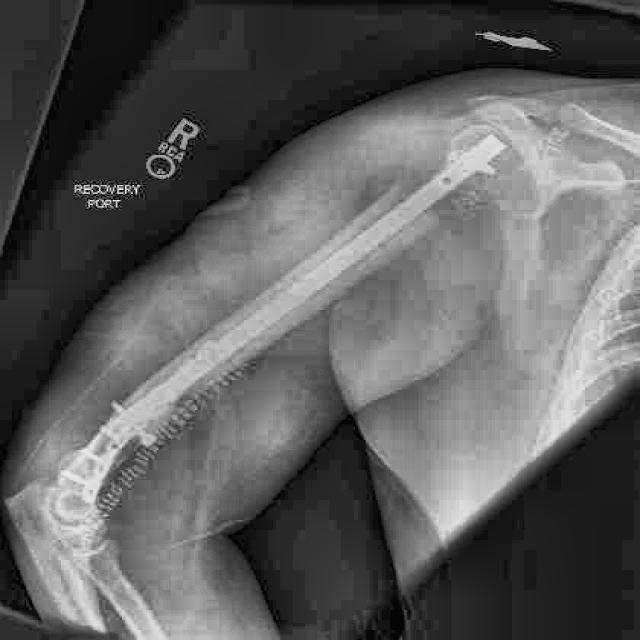humerus: (369, 128, 515, 247)
